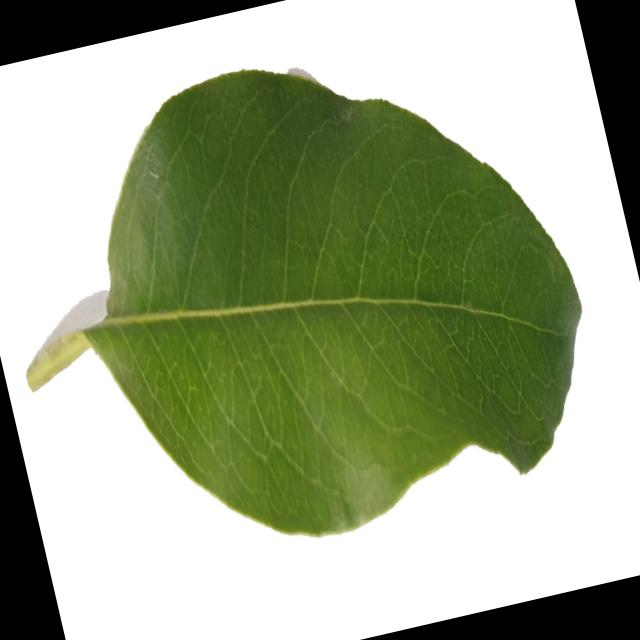Medicinal-Sandalwood: (0, 5, 620, 595)
